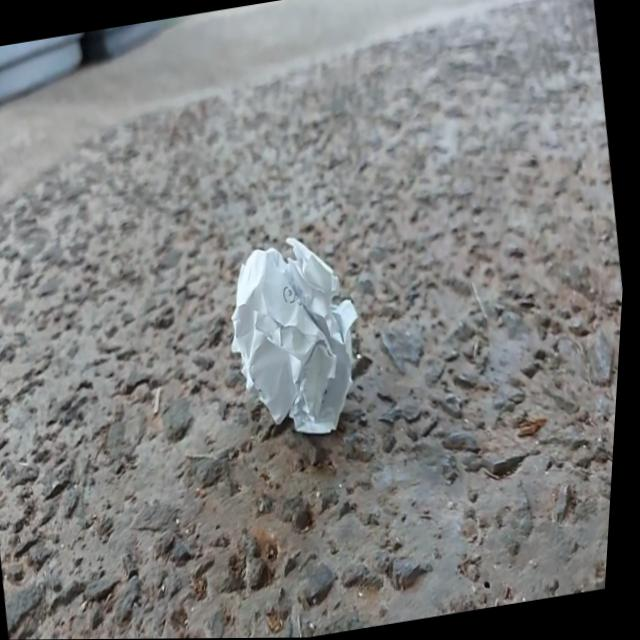paper: (232, 238, 356, 433)
